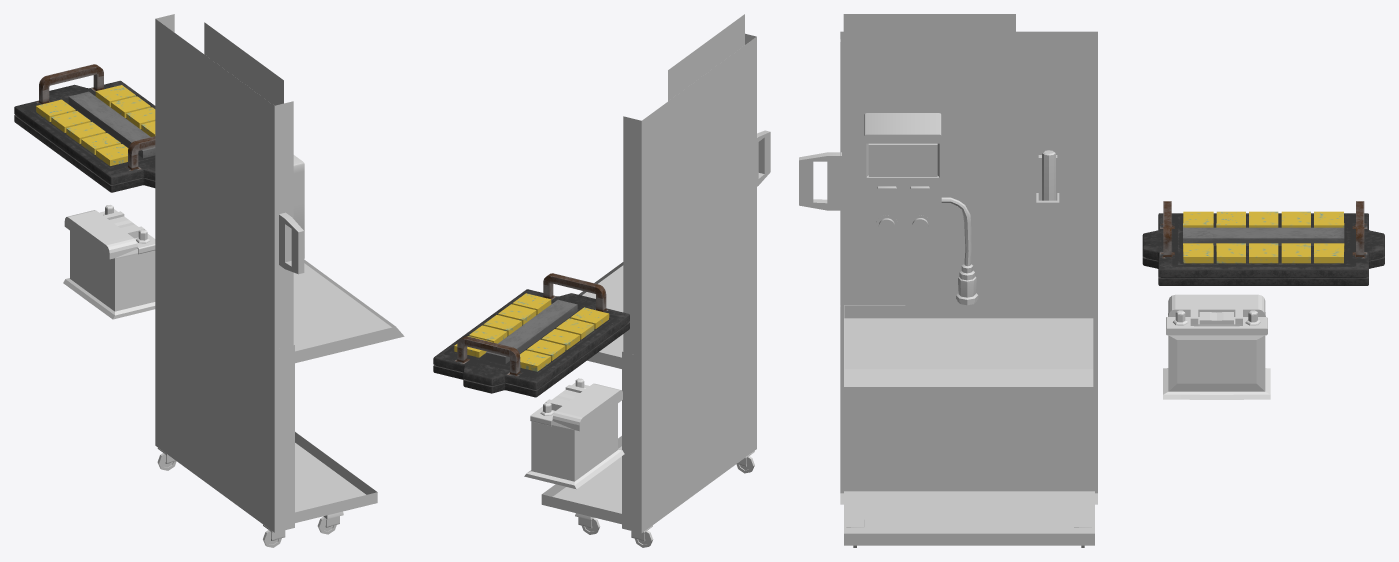
The model's file is cargador de batteria 1.fbx.
The picture shows the model from 3 angles, left to right: view 1: azimuth 30°, elevation 25°; view 2: azimuth 150°, elevation 25°; view 3: azimuth 270°, elevation 25°; orthographic projection. The views are drawn at different scales.
Visible parts, largest first — view 1: soporte, bateria.002, bateria nueva; view 2: soporte, bateria.002, bateria nueva; view 3: soporte, bateria.002, bateria nueva.
Part boxes in pixels (left/top/right/bottom): soporte: left=155, top=14, right=404, bottom=547; bateria.002: left=14, top=64, right=155, bottom=192; bateria nueva: left=63, top=205, right=155, bottom=319; soporte: left=541, top=14, right=770, bottom=547; bateria.002: left=433, top=273, right=629, bottom=397; bateria nueva: left=524, top=378, right=624, bottom=489; soporte: left=799, top=14, right=1097, bottom=547; bateria.002: left=1142, top=201, right=1384, bottom=285; bateria nueva: left=1163, top=294, right=1270, bottom=399.
Bounding box in the file's own units: 135 × 410 × 428.
